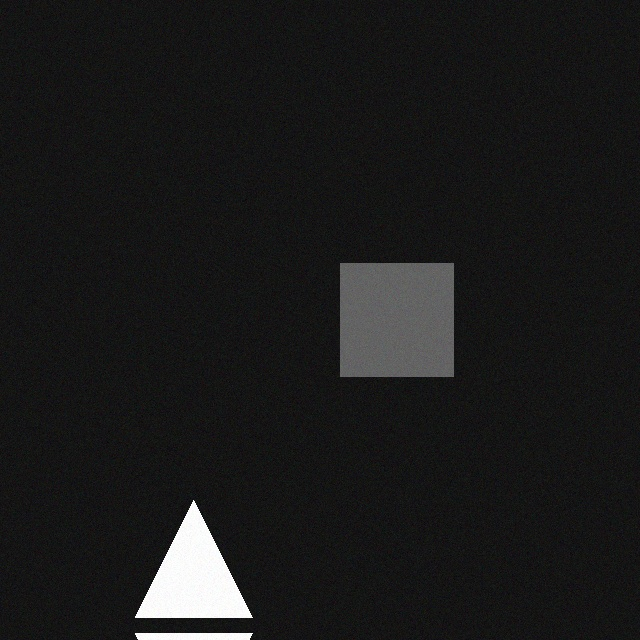square: (327, 277, 440, 390)
triangle: (122, 514, 239, 631)
